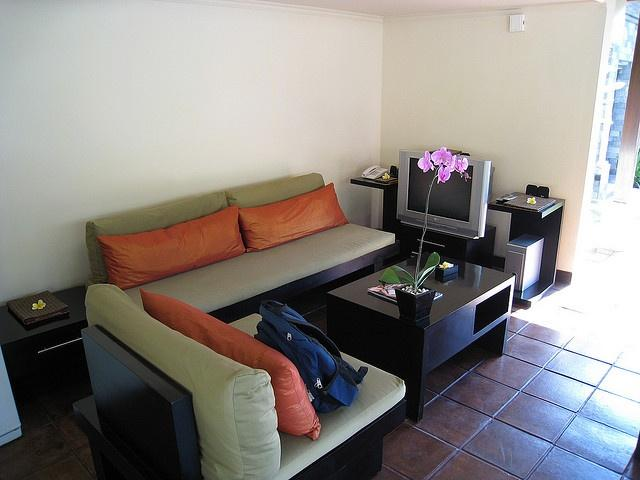Meja: (320, 250, 518, 341)
